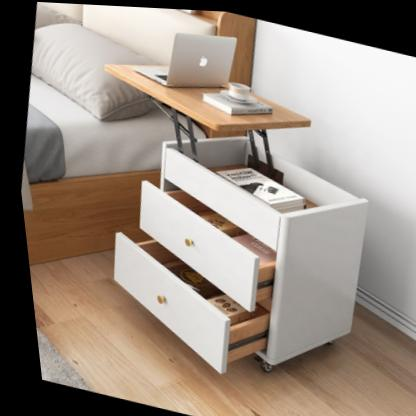Nightstand: (98, 134, 374, 380)
